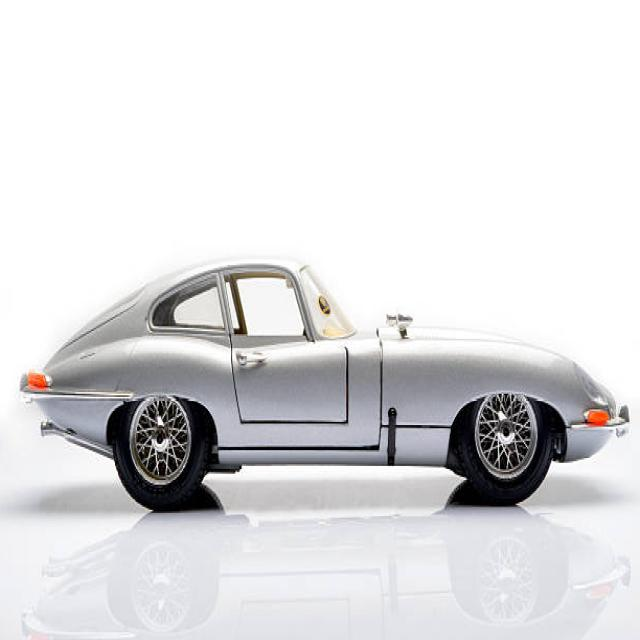Car: (19, 254, 630, 511), (21, 492, 632, 638)
